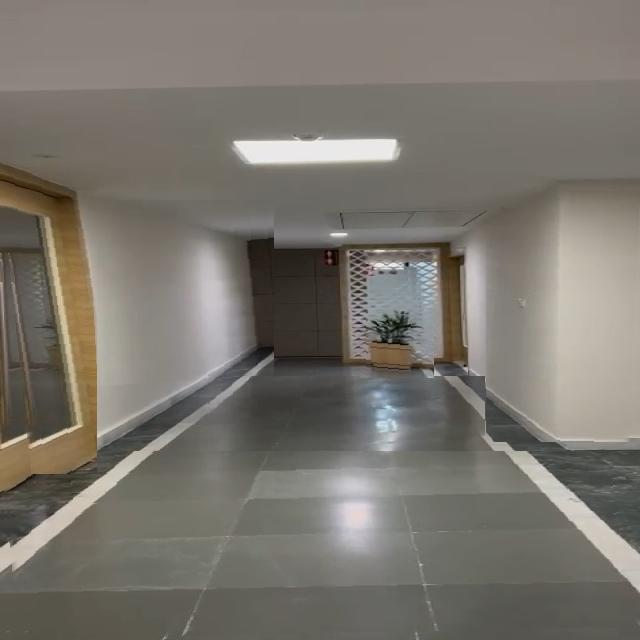door: (0, 173, 97, 474), (206, 376, 485, 452)
floor: (0, 451, 640, 640)
furniture: (360, 310, 434, 378)
wall: (486, 187, 640, 442), (88, 200, 274, 386)
